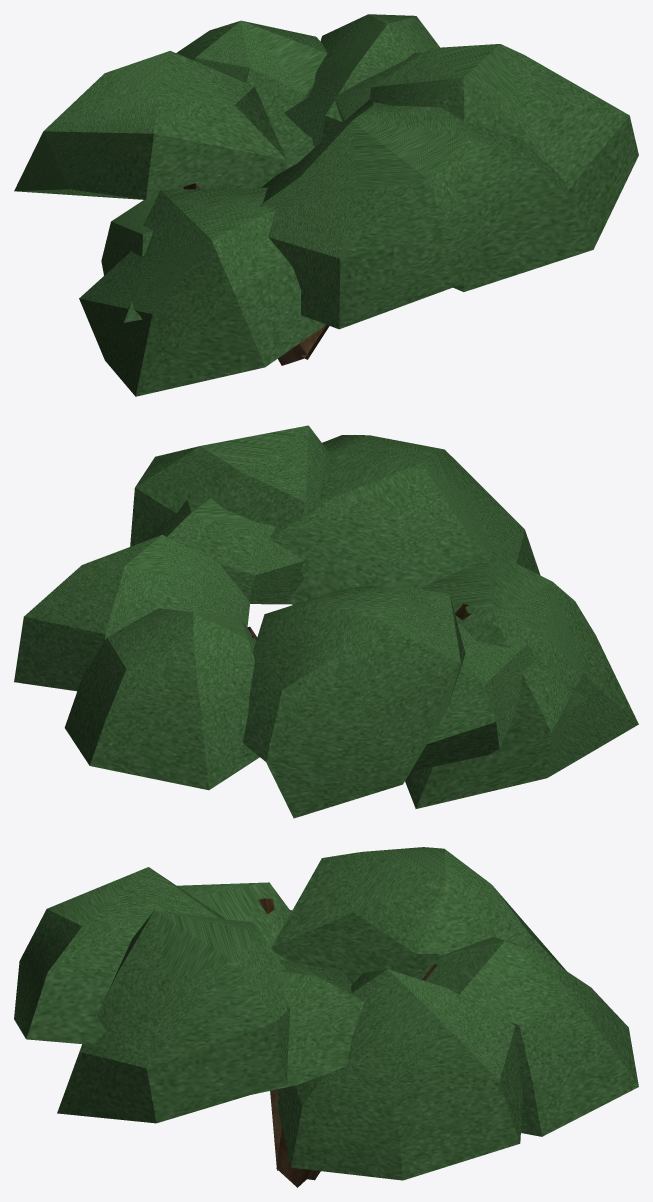
File: bush_6.glb
The picture shows the model from 3 angles, top to bottom: view 1: azimuth 30°, elevation 25°; view 2: azimuth 150°, elevation 25°; view 3: azimuth 270°, elevation 25°; orthographic projection. The views are drawn at different scales.
Parts seen in each view (by area): view 1: bush_6; view 2: bush_6; view 3: bush_6.
Part boxes in pixels (box(x1,y1,x2,y2)): bush_6: box(14, 14, 638, 396); bush_6: box(14, 425, 638, 818); bush_6: box(14, 847, 638, 1187).
Size of the model in its own units: 2.15 by 1.26 by 2.22.
2 materials, 2 textured.
